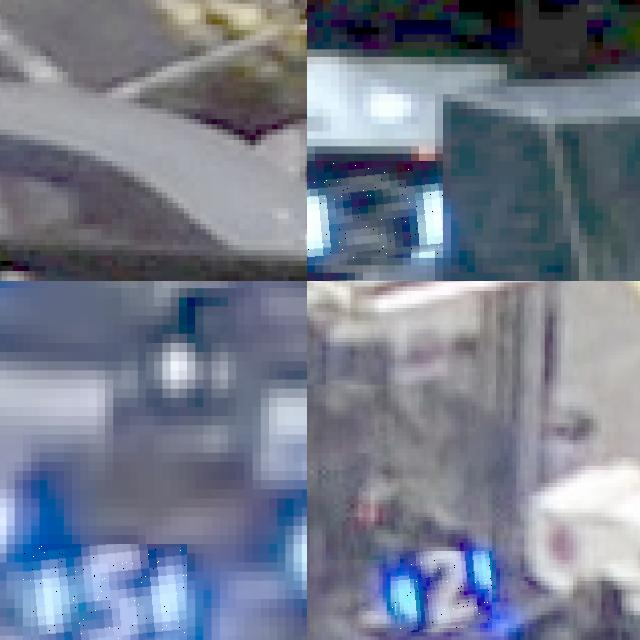B2: (391, 551, 492, 632)
B5: (23, 544, 187, 640)
Bs: (307, 161, 443, 265)
